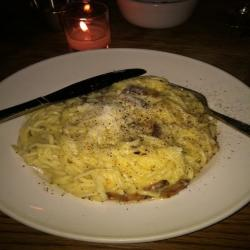carbonara: (23, 70, 221, 209)
